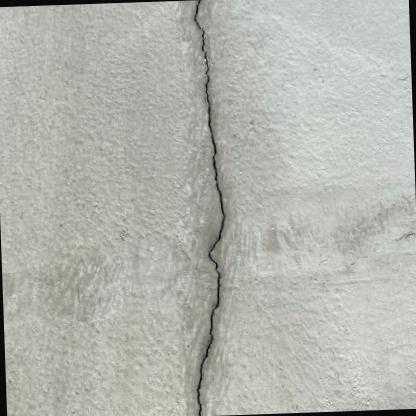crack: (194, 0, 225, 416)
